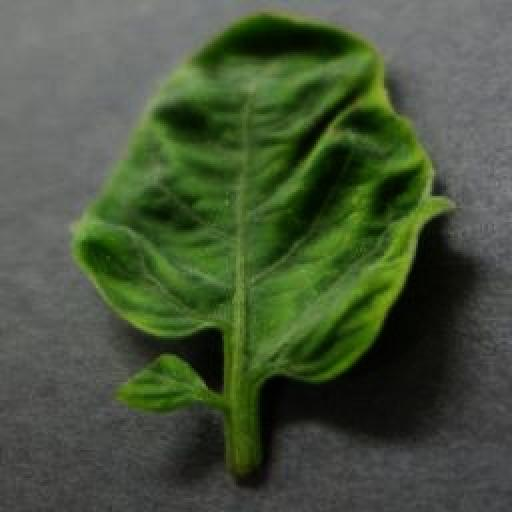disease_tomato: (76, 12, 458, 390)
